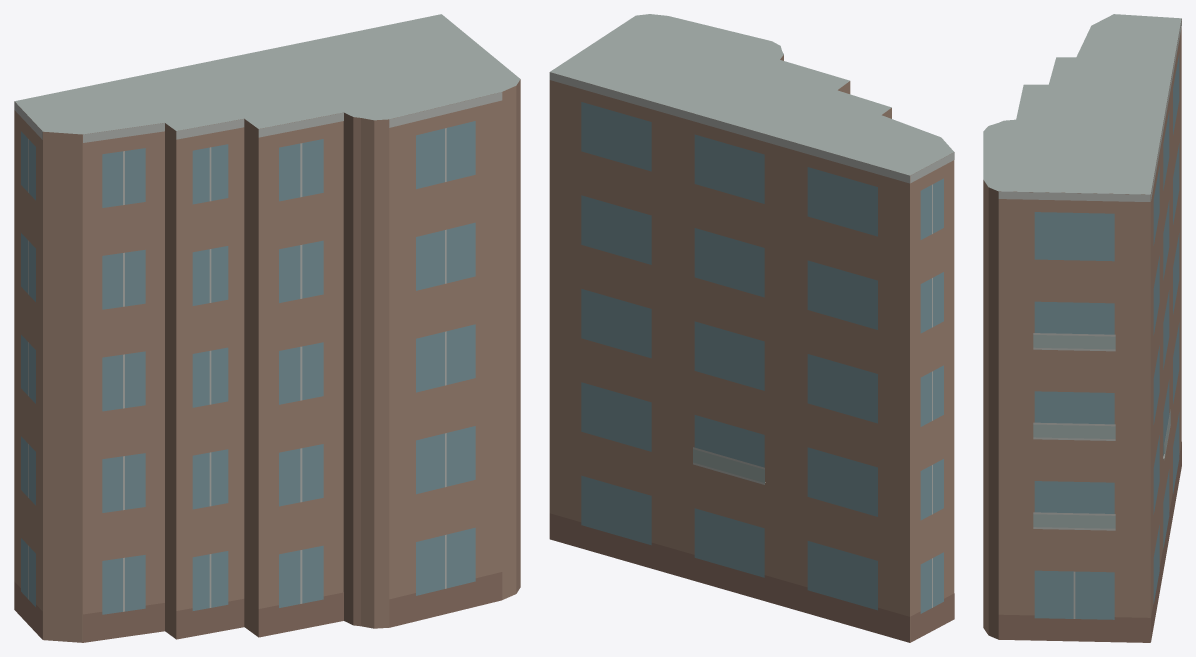
File: survey-upis-32460858.glb
3 views of the same model, side by side, from view 1: azimuth 30°, elevation 25°; view 2: azimuth 150°, elevation 25°; view 3: azimuth 270°, elevation 25° (orthographic). The views are drawn at different scales.
Parts seen in each view (by area): view 1: survey-upis-32460858.tmp; view 2: survey-upis-32460858.tmp; view 3: survey-upis-32460858.tmp.
Boxes of the visible parts, box(x1,y1,x2,y2) form: survey-upis-32460858.tmp: box(14, 14, 520, 642); survey-upis-32460858.tmp: box(549, 14, 954, 642); survey-upis-32460858.tmp: box(983, 14, 1181, 642).
Size of the model in its own units: 12.45 by 14.4 by 5.78.
